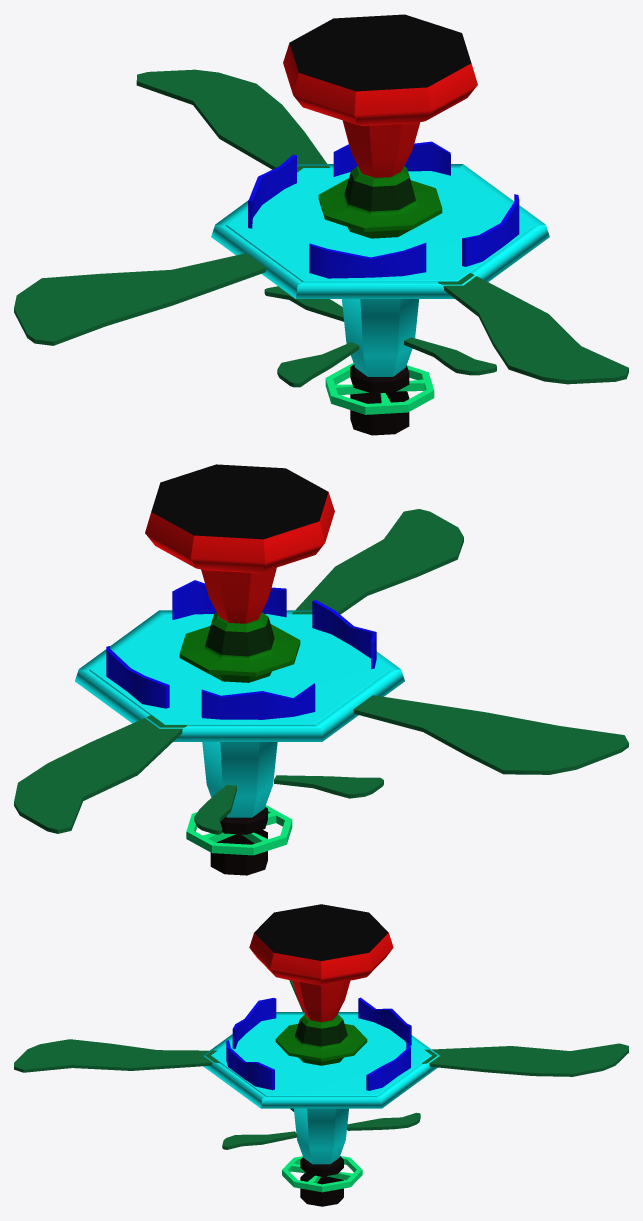
Rendered from Big Fan.fbx.
The picture shows the model from 3 angles, top to bottom: view 1: azimuth 30°, elevation 25°; view 2: azimuth 150°, elevation 25°; view 3: azimuth 270°, elevation 25°; orthographic projection. The views are drawn at different scales.
Visible parts, largest first — view 1: pCylinder6; view 2: pCylinder6; view 3: pCylinder6.
Part boxes in pixels (left/top/right/bottom): pCylinder6: left=14, top=14, right=628, bottom=435; pCylinder6: left=14, top=464, right=628, bottom=875; pCylinder6: left=14, top=904, right=628, bottom=1206.
Size of the model in its own units: 18.9 by 13.39 by 28.18.
